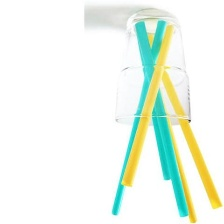drinking_straw: (120, 20, 176, 191)
glass: (112, 5, 195, 127)
